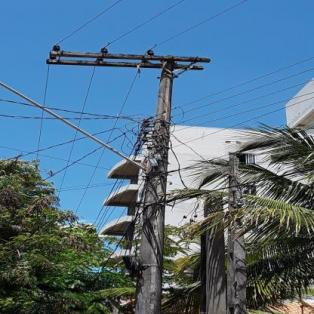Poste: (118, 51, 184, 314)
